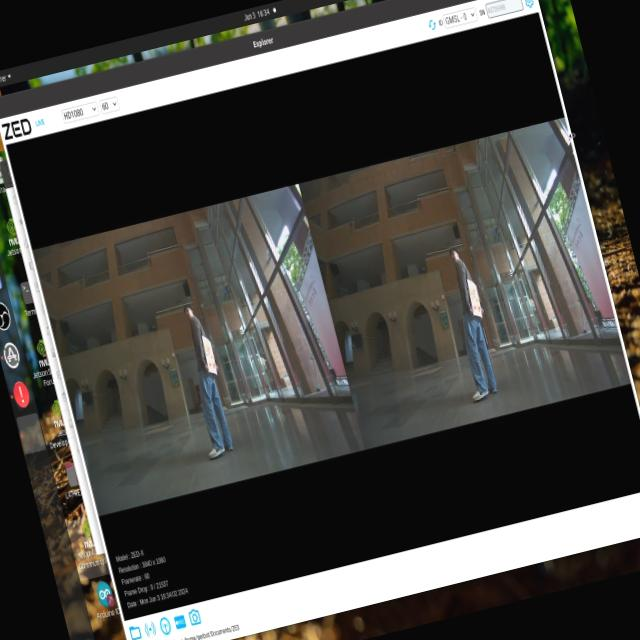red: (466, 279, 484, 321), (200, 338, 220, 374)
